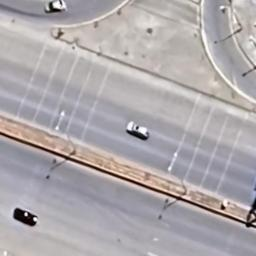sedan: (10, 204, 40, 231), (125, 117, 151, 142), (42, 0, 71, 12)
